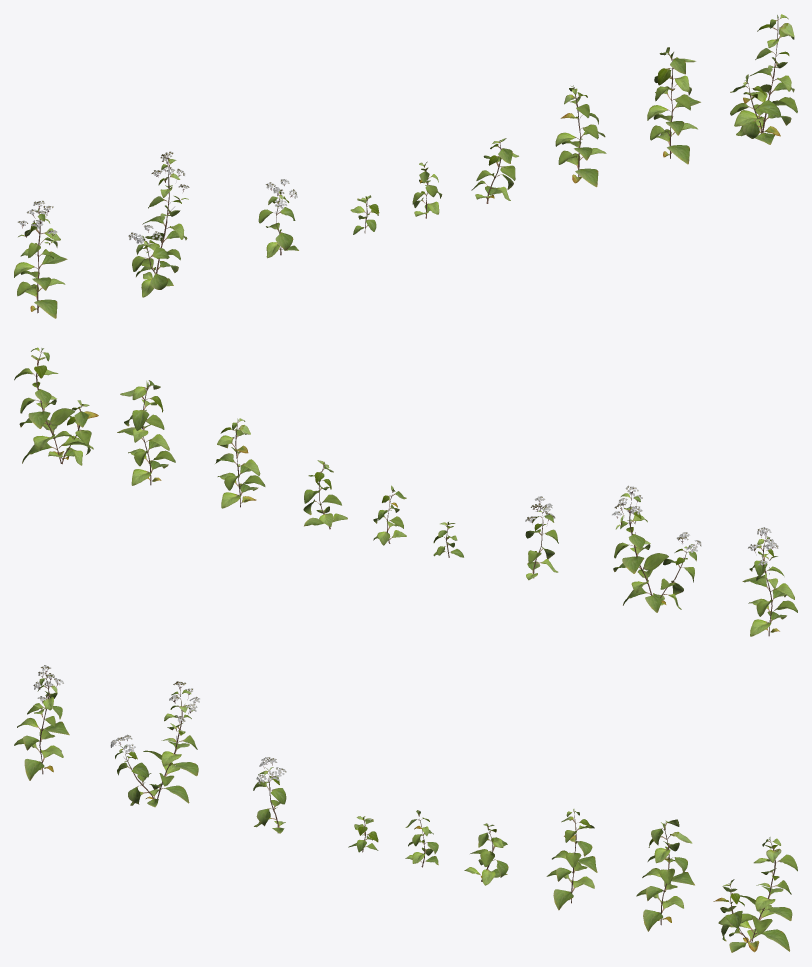
Rendered from shrub_01.glb.
3 renders of one model, top to bottom at view 1: azimuth 30°, elevation 25°; view 2: azimuth 150°, elevation 25°; view 3: azimuth 330°, elevation 25°, orthographic. The views are drawn at different scales.
Parts seen in each view (by area): view 1: shrub_01_a; view 2: shrub_01_a; view 3: shrub_01_a.
Boxes of the visible parts, bbox=[...] form: shrub_01_a: bbox=[14, 14, 797, 318]; shrub_01_a: bbox=[14, 347, 797, 636]; shrub_01_a: bbox=[14, 665, 797, 952].
Size of the model in its own units: 2.59 by 0.3956 by 0.2181.
1 material, 1 textured.
